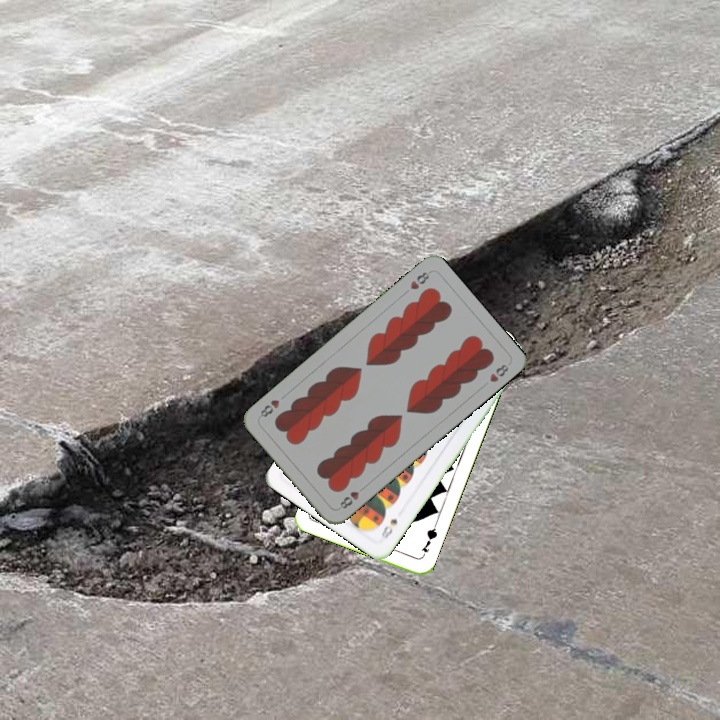G7: (417, 521, 440, 555)
H8: (406, 267, 433, 292), (336, 487, 362, 511)
S8: (377, 514, 400, 542)
